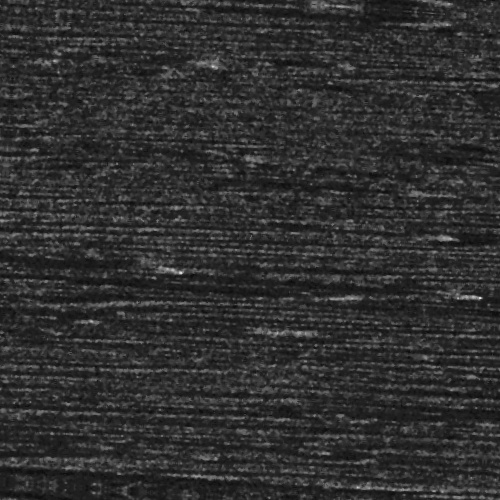object: (378, 4, 431, 13), (281, 320, 312, 333), (130, 268, 203, 273), (319, 285, 392, 290)
shadow: (144, 4, 404, 13), (75, 285, 355, 290), (224, 320, 296, 333), (0, 268, 167, 273), (427, 390, 500, 395)
